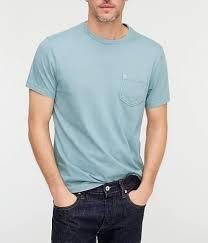Tshirt: (22, 26, 176, 198)
